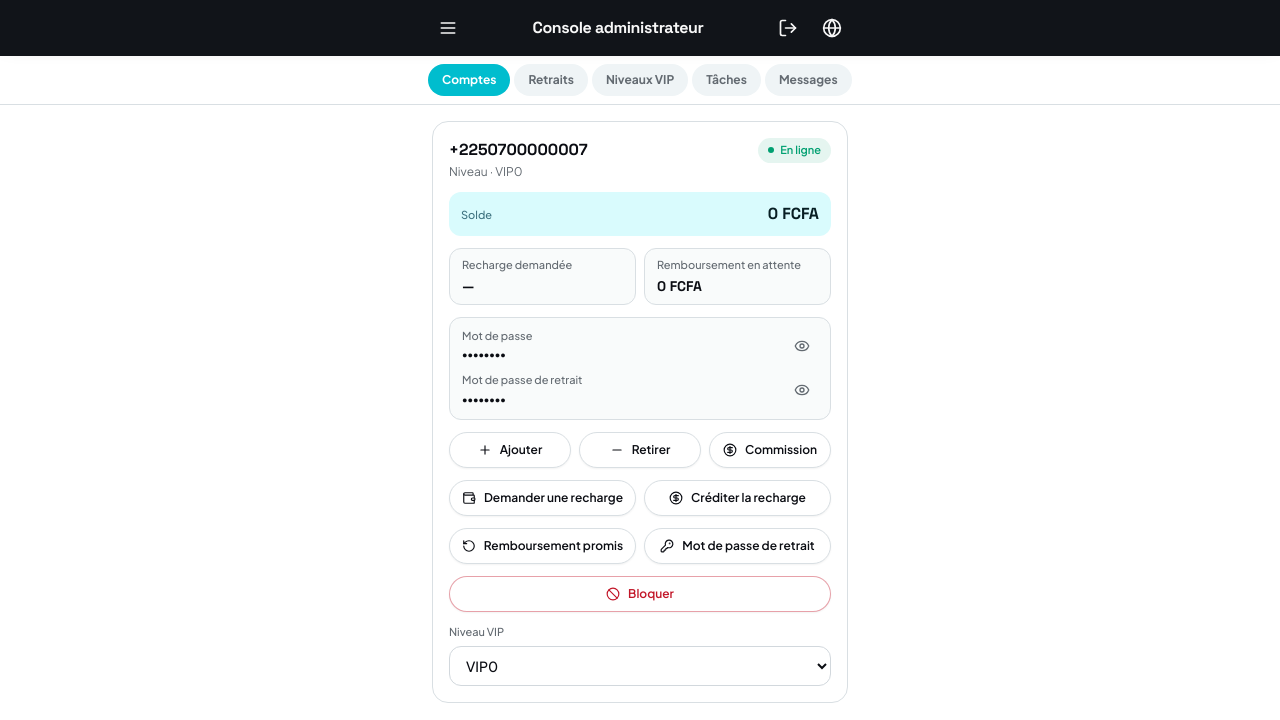
it: password minimum length › refuses an admin secondary-password change shorter than 8 characters
The width and height of the screenshot is (1280, 720).
Click the button with test id "admin.set_secondary_password_button.1".
click(738, 546)  # box [644,528,831,564]
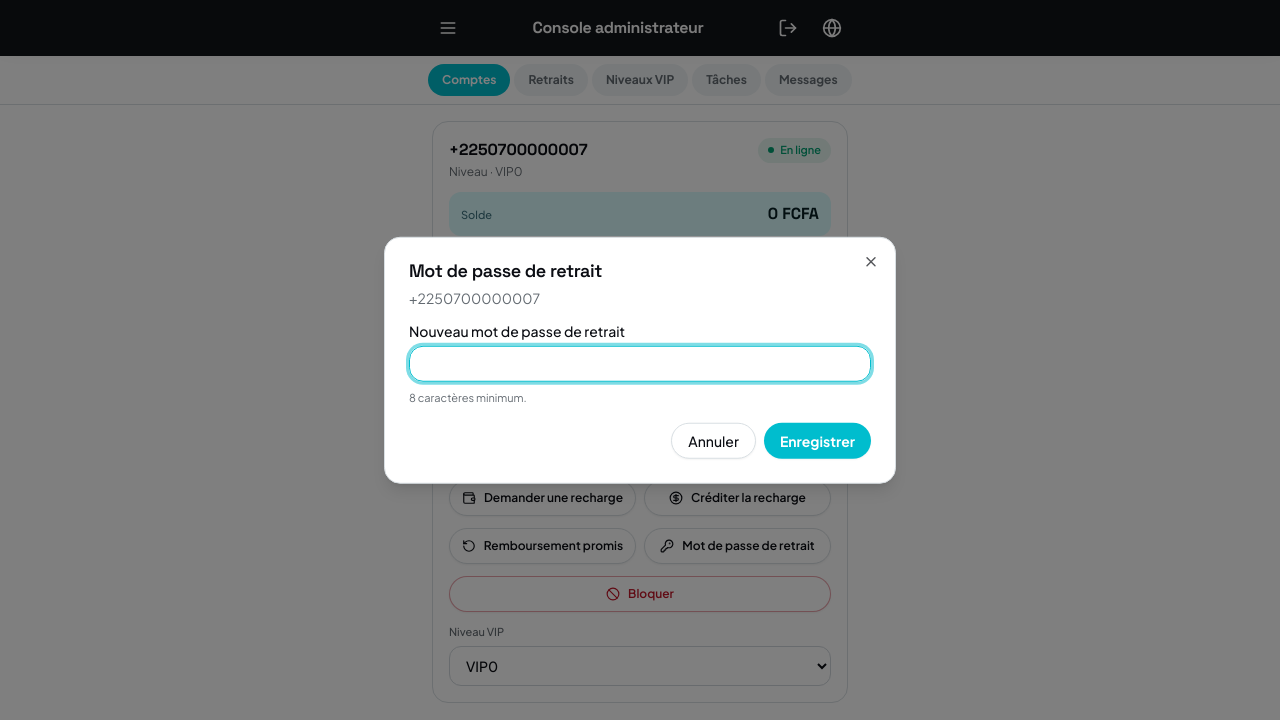
Type "short7" into the field with test id "admin.secondary_password_input".
click(640, 364); type("short7")  # box [409,346,871,382]
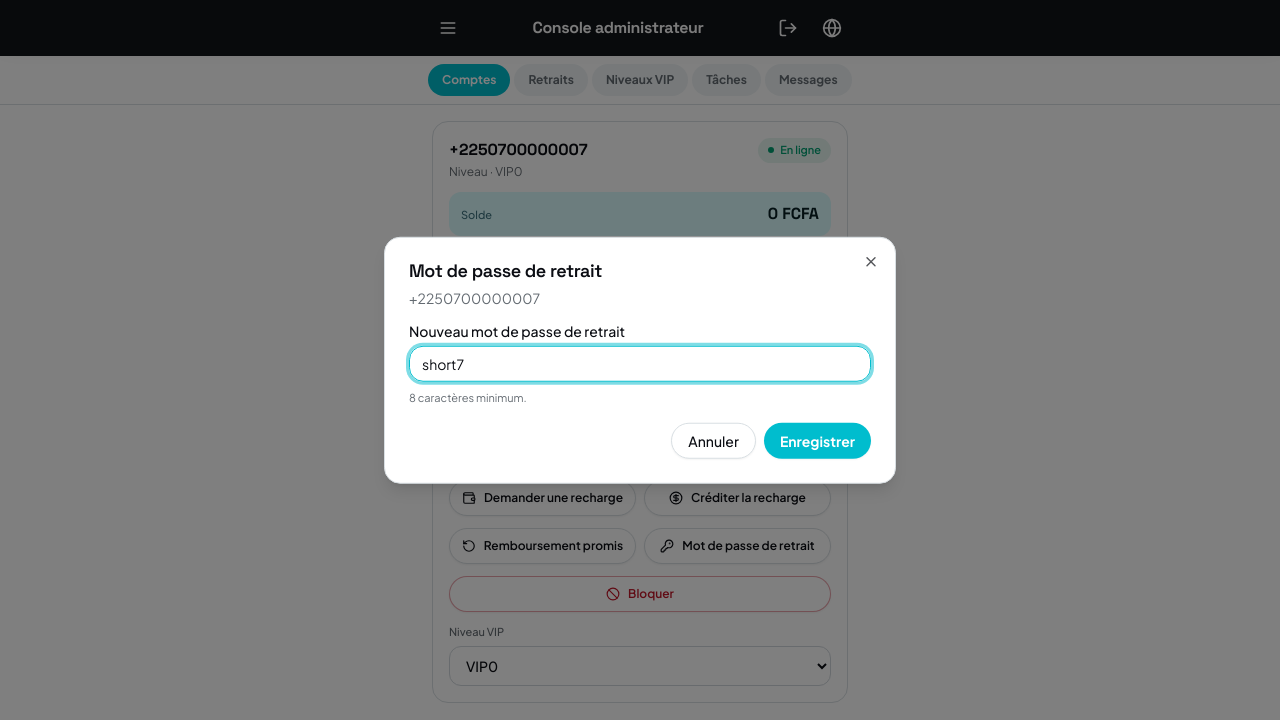
Click the button with test id "admin.secondary_password_confirm_button".
click(817, 440)  # box [764,422,871,458]
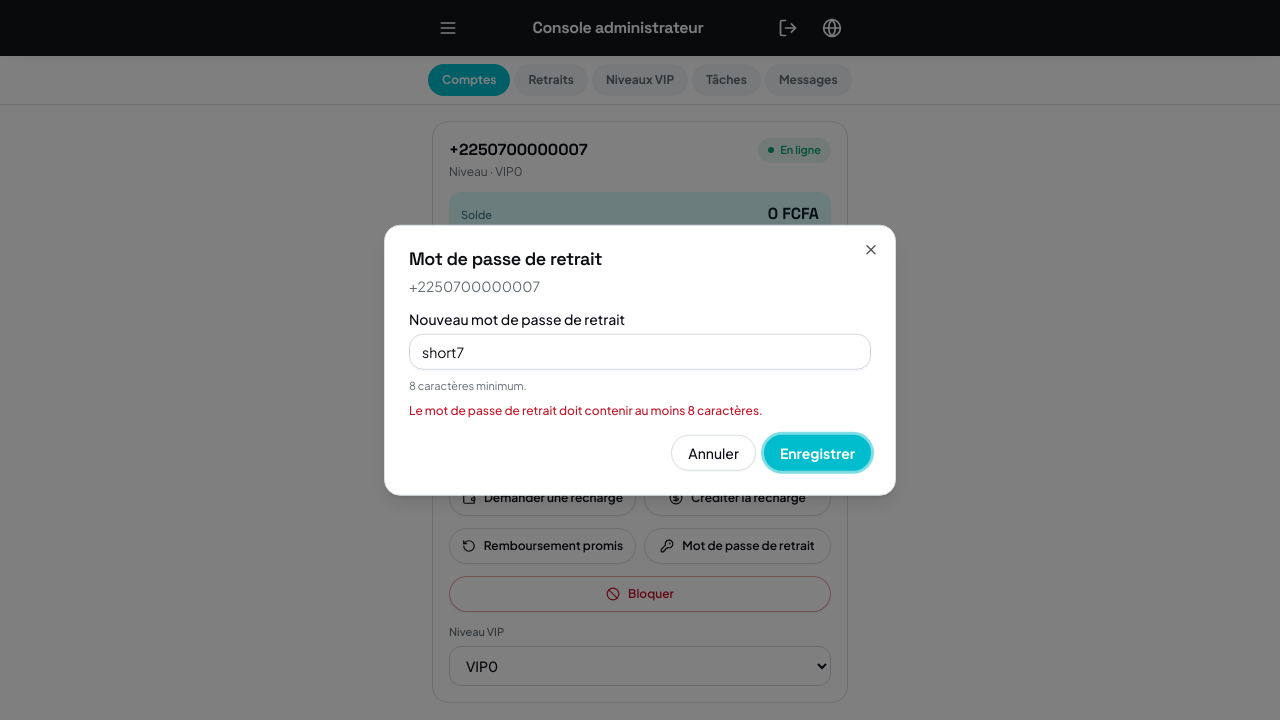
Expected: the text "Le mot de passe de retrait doit contenir au moins 8 caractères." is shown, [409,402,763,417]
